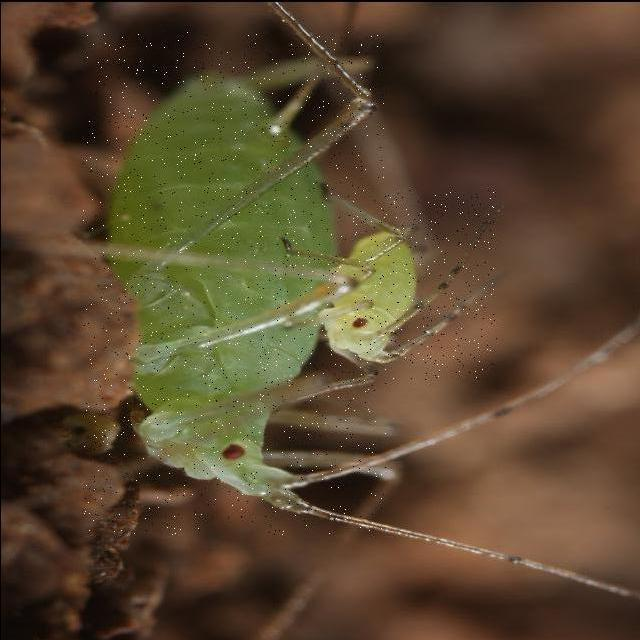aphid: (82, 30, 386, 533), (305, 187, 496, 378)
